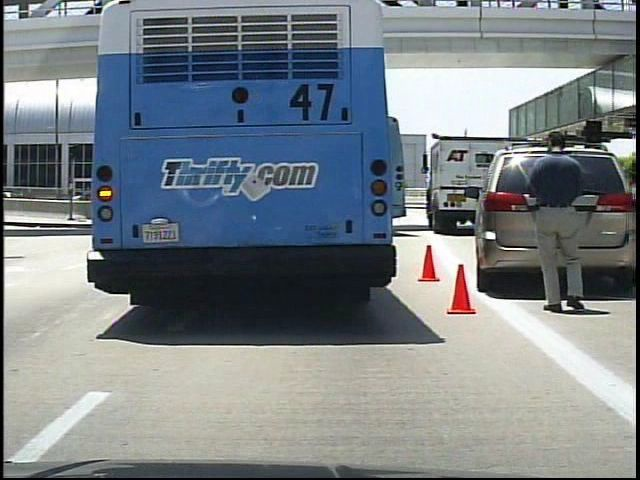person: (528, 127, 590, 314)
